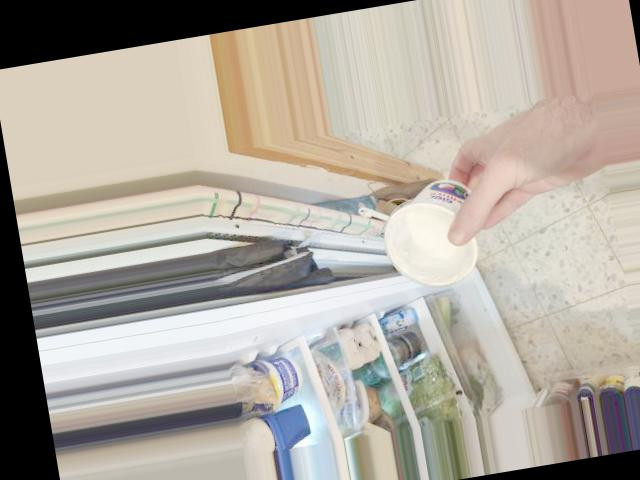cotage: (365, 167, 496, 297)
